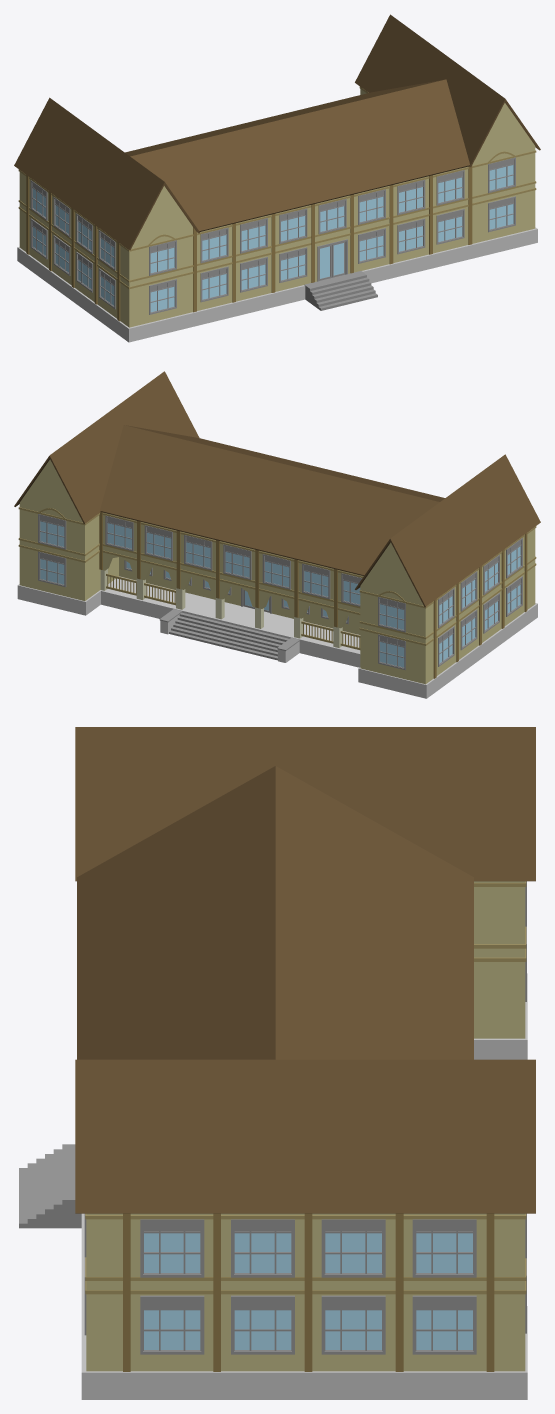
File: school.glb
3 views of the same model, one above another, from view 1: azimuth 30°, elevation 25°; view 2: azimuth 150°, elevation 25°; view 3: azimuth 270°, elevation 25° (orthographic). The views are drawn at different scales.
Parts seen in each view (by area): view 1: school; view 2: school; view 3: school.
Part boxes in pixels (box(x1,y1,x2,y2)): school: box(14, 14, 540, 342); school: box(14, 371, 540, 698); school: box(19, 727, 535, 1399).
Bounding box in the file's own units: 31.43 × 11.2 × 17.09.
Materials: 1 (1 with a texture image).
